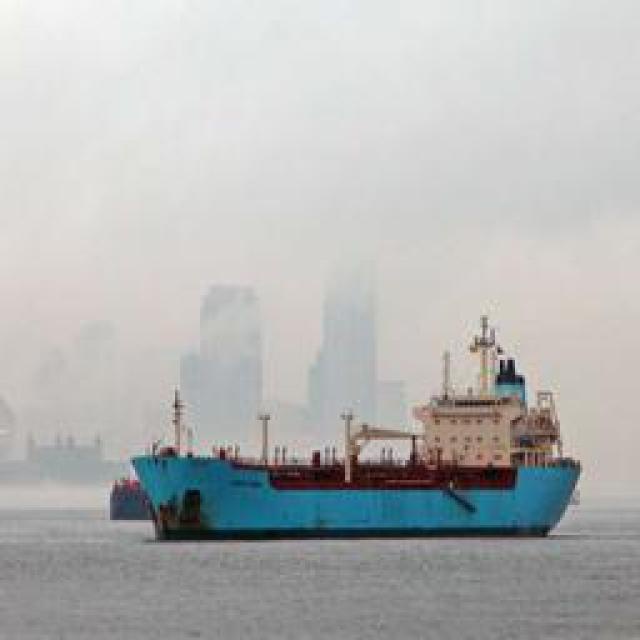Ship: (127, 289, 577, 542)
